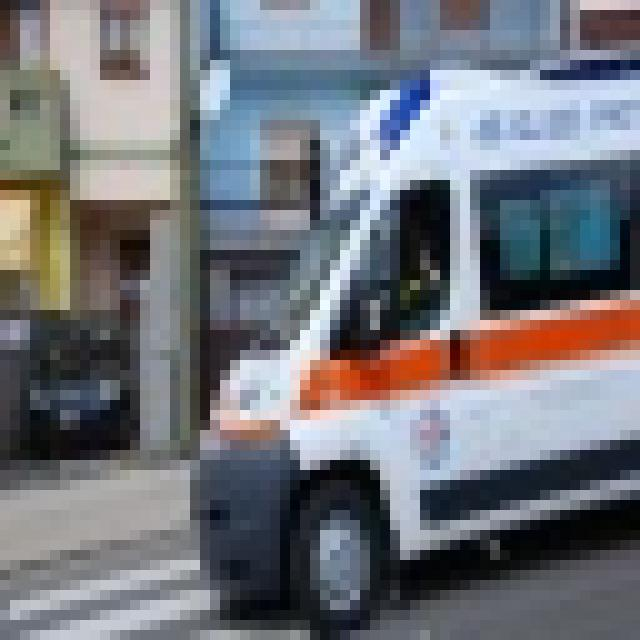Ambulance: (180, 40, 630, 630)
